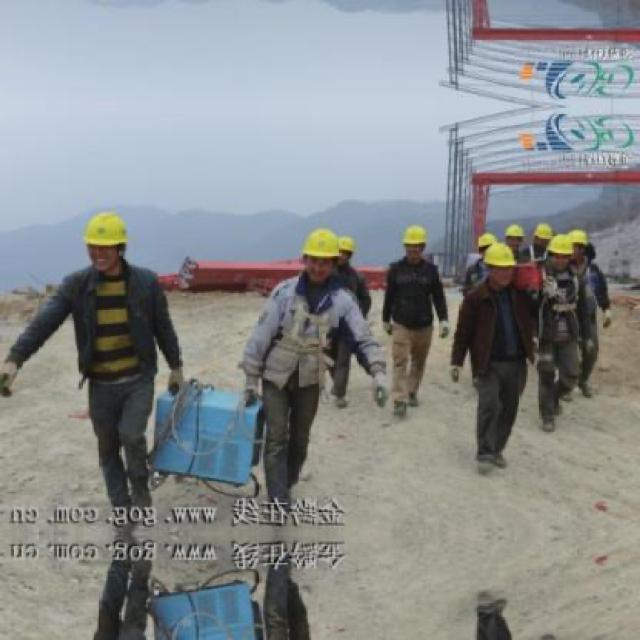con casco: (74, 195, 159, 295), (279, 207, 374, 288), (369, 207, 447, 262), (466, 234, 526, 282), (539, 224, 589, 274)
